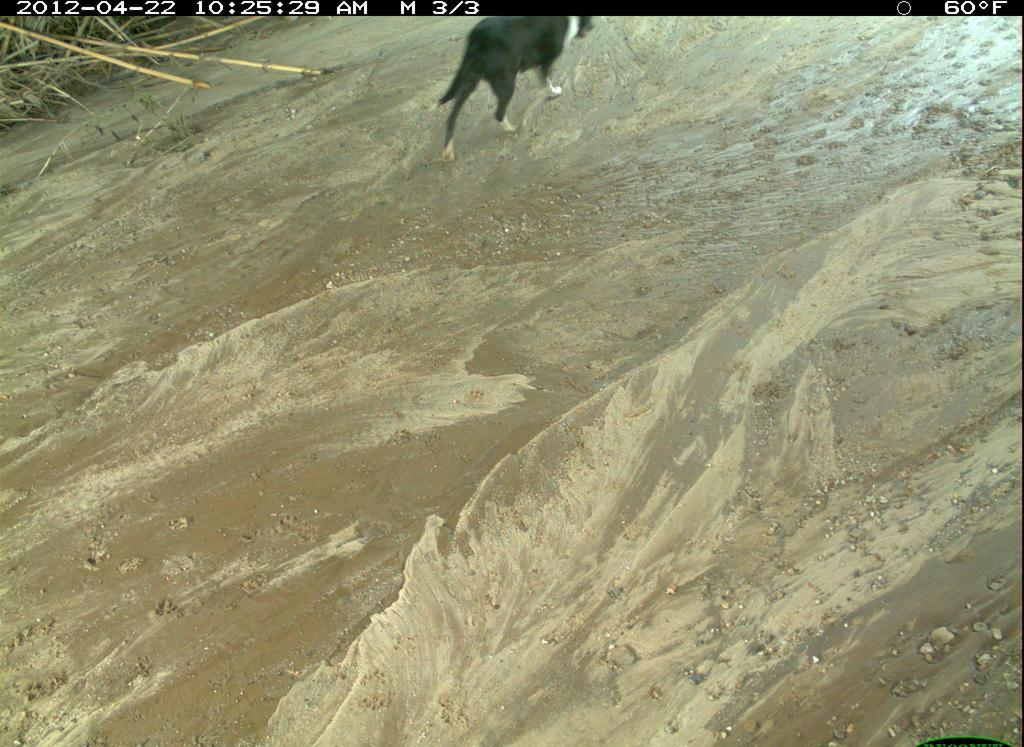dog: (868, 22, 1024, 334)
